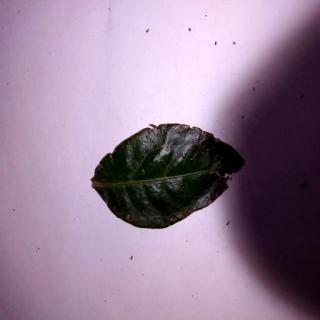Bird Eye Spot: (92, 123, 246, 231)
